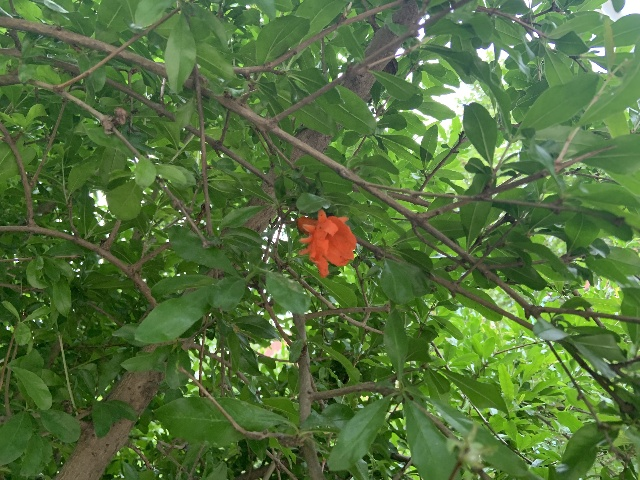flower: (296, 208, 356, 276)
